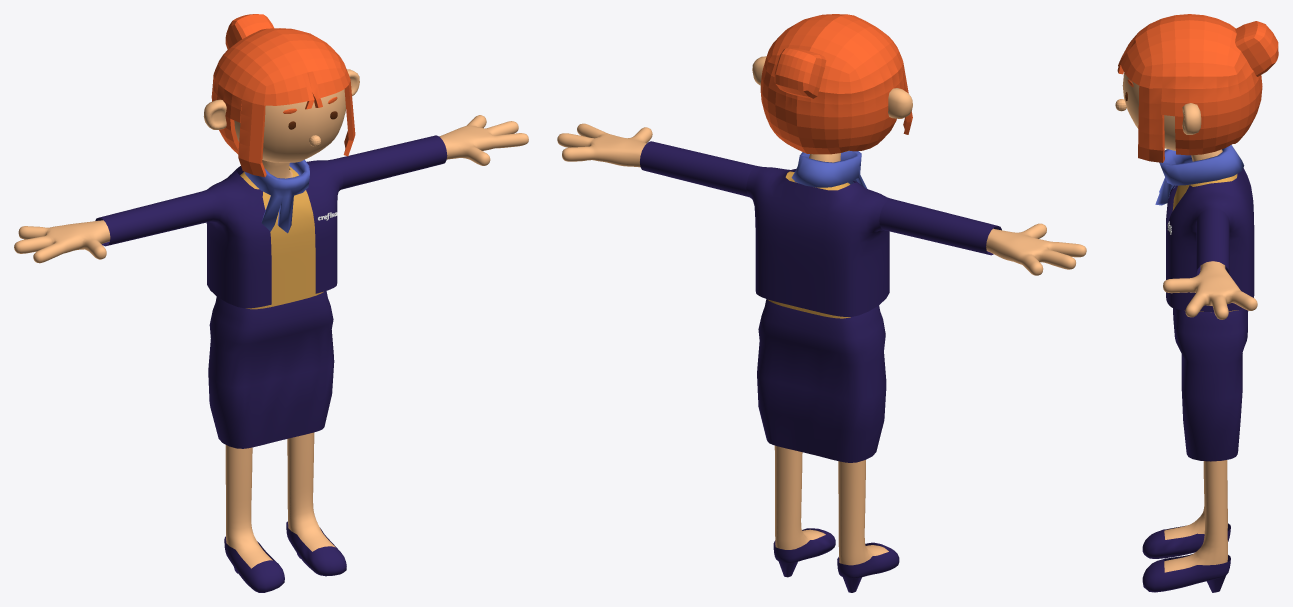
Rendered from cris.fbx.
3 renders of one model, left to right at view 1: azimuth 30°, elevation 25°; view 2: azimuth 150°, elevation 25°; view 3: azimuth 270°, elevation 25°, orthographic. The views are drawn at different scales.
Visible parts, largest first — view 1: Braço_Esq.001, Tronco.002, Cabeça.002, Perna_Esq, Tronco.001, Cabeça, Perna_Esq.001, Mão_Esq, Mão_Dir, Tronco.003; view 2: Braço_Esq.001, Tronco.002, Cabeça.002, Perna_Esq, Mão_Esq, Mão_Dir, Perna_Esq.001, Tronco.003; view 3: Cabeça.002, Tronco.002, Braço_Esq.001, Perna_Esq, Perna_Esq.001, Mão_Dir, Tronco.003, Cabeça, Orelha_Dir, Tronco.001.
Part boxes in pixels (x1,y1,x2,y2): Braço_Esq.001: [95, 135, 447, 308]; Tronco.002: [208, 291, 334, 448]; Cabeça.002: [211, 14, 355, 177]; Perna_Esq: [225, 160, 335, 568]; Tronco.001: [240, 166, 323, 309]; Cabeça: [234, 89, 345, 162]; Perna_Esq.001: [224, 521, 346, 592]; Mão_Esq: [14, 220, 110, 263]; Mão_Dir: [439, 115, 528, 165]; Tronco.003: [244, 159, 309, 233]; Braço_Esq.001: [640, 141, 1001, 316]; Tronco.002: [757, 299, 886, 462]; Cabeça.002: [760, 14, 912, 154]; Perna_Esq: [774, 153, 888, 565]; Mão_Esq: [986, 223, 1086, 275]; Mão_Dir: [557, 123, 652, 167]; Perna_Esq.001: [773, 528, 899, 592]; Tronco.003: [791, 151, 867, 188]; Cabeça.002: [1117, 14, 1278, 162]; Tronco.002: [1173, 308, 1248, 461]; Braço_Esq.001: [1166, 168, 1254, 311]; Perna_Esq: [1164, 149, 1227, 572]; Perna_Esq.001: [1142, 523, 1230, 592]; Mão_Dir: [1163, 262, 1257, 319]; Tronco.003: [1155, 145, 1244, 205]; Cabeça: [1122, 72, 1175, 150]; Orelha_Dir: [1182, 103, 1201, 134]; Tronco.001: [1172, 174, 1238, 312].
Size of the model in its own units: 10622 by 10891 by 2896.
